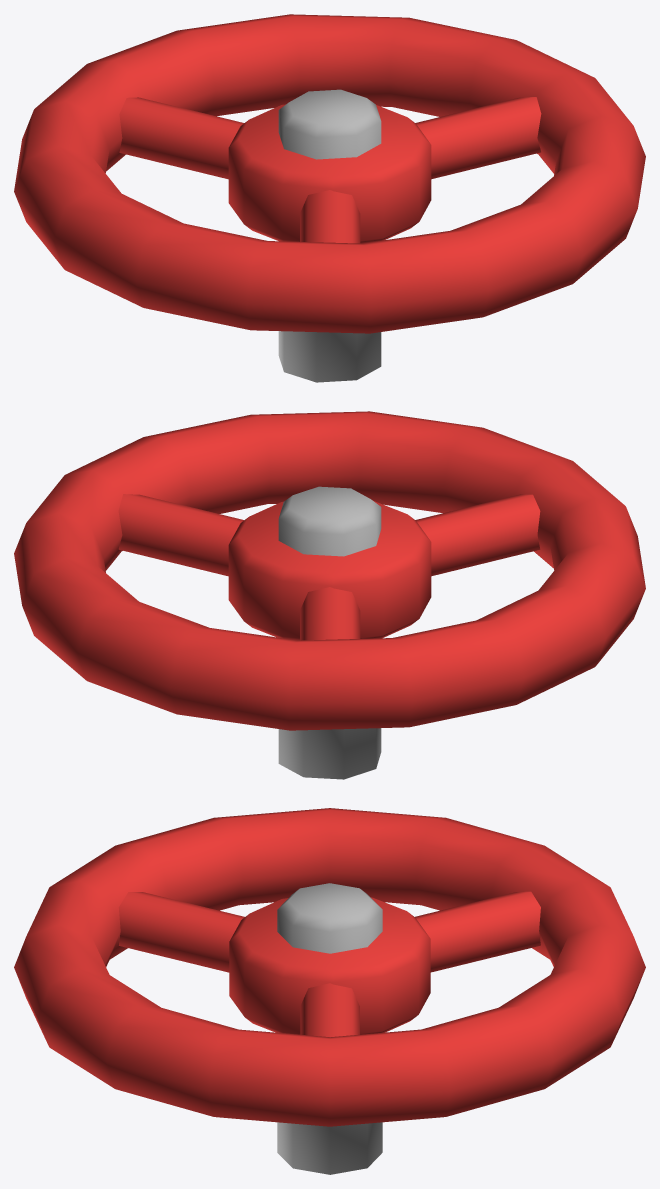
File: valve_001.fbx
The picture shows the model from 3 angles, top to bottom: view 1: azimuth 30°, elevation 25°; view 2: azimuth 150°, elevation 25°; view 3: azimuth 270°, elevation 25°; orthographic projection.
Parts seen in each view (by area): view 1: valve_001; view 2: valve_001; view 3: valve_001.
Boxes of the visible parts, x1,y1,x2,y2 form: valve_001: (14, 14, 645, 382); valve_001: (14, 411, 645, 779); valve_001: (14, 808, 645, 1174).
Size of the model in its own units: 643 by 643 by 283.
